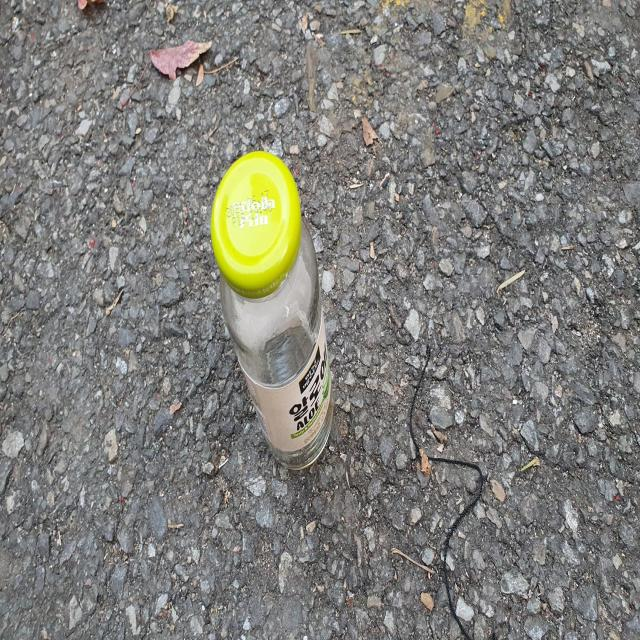glass: (211, 151, 333, 469)
